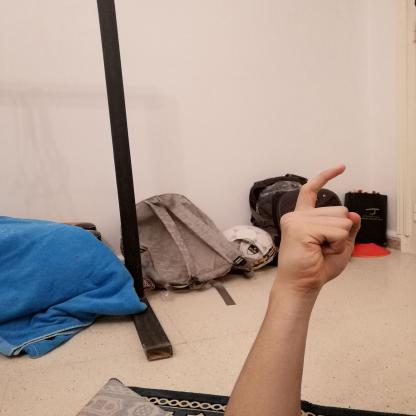RAA: (269, 154, 370, 296)
